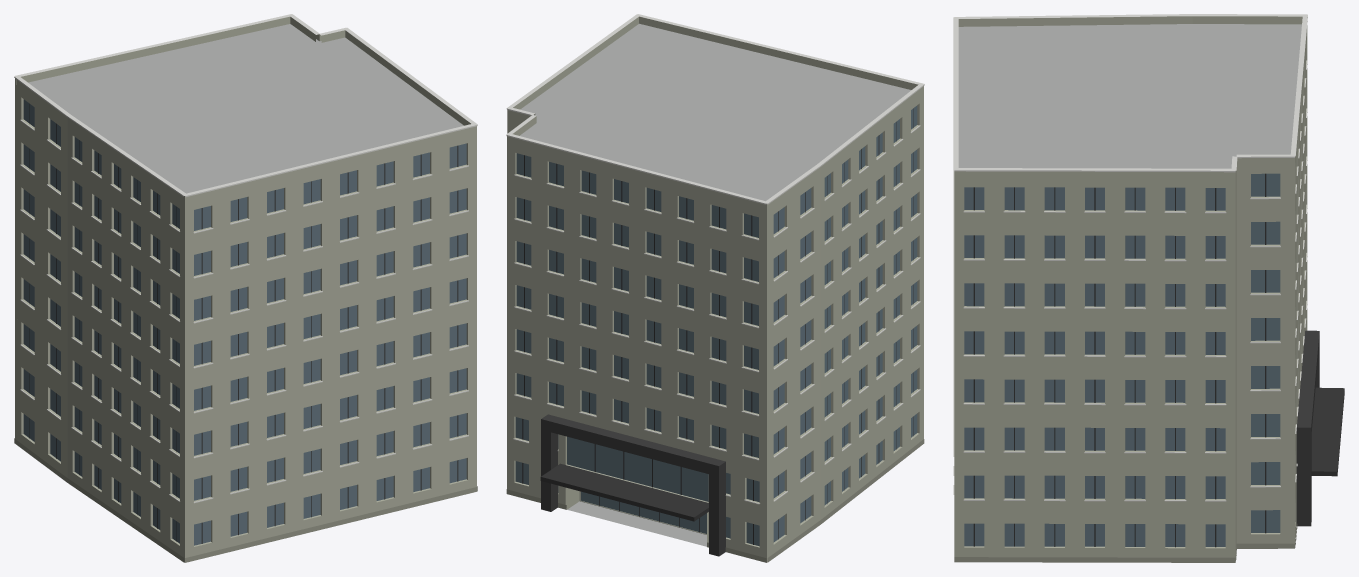
The picture shows the model from 3 angles, left to right: view 1: azimuth 30°, elevation 25°; view 2: azimuth 150°, elevation 25°; view 3: azimuth 270°, elevation 25°; orthographic projection. The views are drawn at different scales.
Visible parts, largest first — view 1: wawoo__wall, wawoo__roof, wawoo__glass, wawoo__trim, wawoo__parapet, wawoo__frame, wawoo__base; view 2: wawoo__wall, wawoo__roof, wawoo__glass, wawoo__trim, wawoo__parapet, wawoo__accent, wawoo__canopy, wawoo__frame, wawoo__base; view 3: wawoo__wall, wawoo__roof, wawoo__glass, wawoo__trim, wawoo__parapet, wawoo__accent, wawoo__frame, wawoo__canopy, wawoo__base.
Boxes of the visible parts, x1=… form: wawoo__wall: x1=15, y1=84, x2=476, y2=562; wawoo__roof: x1=28, y1=24, x2=463, y2=193; wawoo__glass: x1=23, y1=99, x2=466, y2=545; wawoo__trim: x1=14, y1=14, x2=477, y2=503; wawoo__parapet: x1=15, y1=16, x2=476, y2=202; wawoo__frame: x1=29, y1=104, x2=458, y2=543; wawoo__base: x1=14, y1=438, x2=477, y2=562; wawoo__wall: x1=507, y1=91, x2=923, y2=562; wawoo__roof: x1=520, y1=23, x2=911, y2=546; wawoo__glass: x1=515, y1=105, x2=917, y2=546; wawoo__trim: x1=506, y1=14, x2=924, y2=504; wawoo__parapet: x1=507, y1=16, x2=923, y2=210; wawoo__accent: x1=541, y1=414, x2=725, y2=556; wawoo__canopy: x1=540, y1=463, x2=708, y2=521; wawoo__frame: x1=522, y1=108, x2=913, y2=544; wawoo__base: x1=506, y1=439, x2=924, y2=562; wawoo__wall: x1=954, y1=26, x2=1307, y2=560; wawoo__roof: x1=958, y1=24, x2=1301, y2=168; wawoo__glass: x1=964, y1=173, x2=1280, y2=546; wawoo__trim: x1=953, y1=14, x2=1307, y2=501; wawoo__parapet: x1=954, y1=16, x2=1302, y2=178; wawoo__accent: x1=1296, y1=330, x2=1319, y2=526; wawoo__frame: x1=973, y1=173, x2=1266, y2=547; wawoo__canopy: x1=1311, y1=387, x2=1344, y2=476; wawoo__base: x1=954, y1=524, x2=1297, y2=562.
Bounding box in the file's own units: 25.91 × 30.2 × 27.32.
